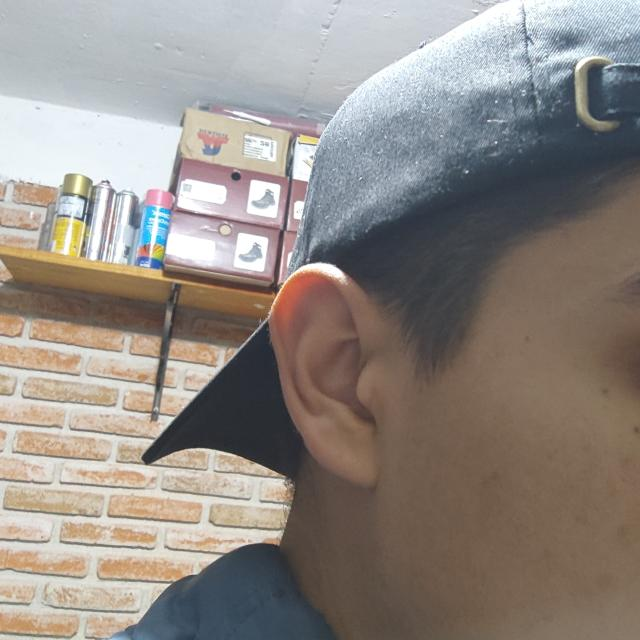ear: (270, 264, 382, 488)
